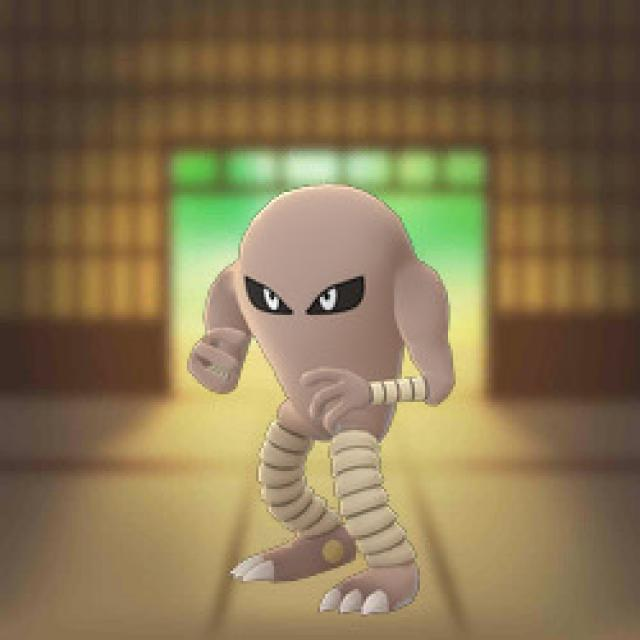Hitmonlee: (188, 177, 460, 620)
